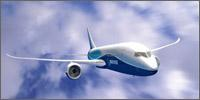airplane: (2, 27, 188, 78)
